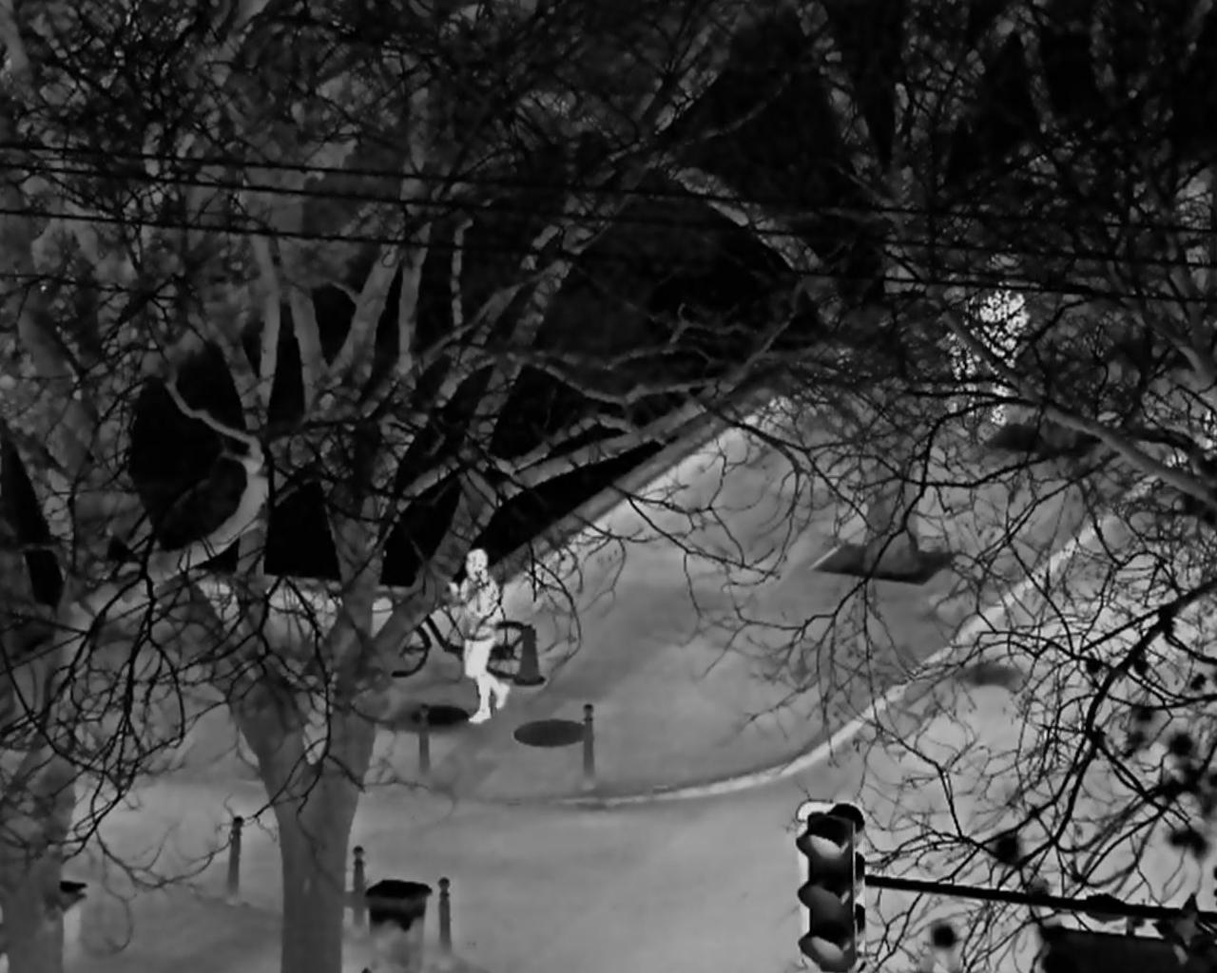person: (445, 548, 510, 724), (977, 277, 1024, 423)
